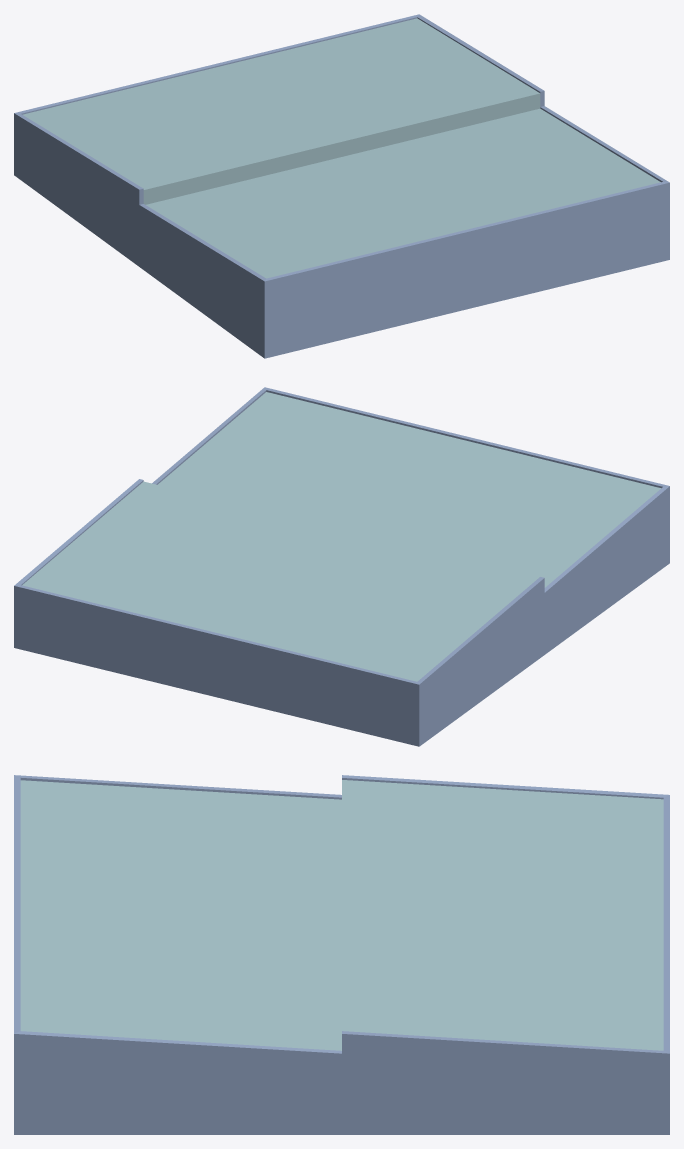
File: hangar_bis.fbx
The picture shows the model from 3 angles, top to bottom: view 1: azimuth 30°, elevation 25°; view 2: azimuth 150°, elevation 25°; view 3: azimuth 270°, elevation 25°; orthographic projection. The views are drawn at different scales.
Visible parts, largest first — view 1: hangar_bis_level-1_floor, hangar_bis_level-2_walls; view 2: hangar_bis_level-1_floor, hangar_bis_level-2_walls; view 3: hangar_bis_level-1_floor, hangar_bis_level-2_walls.
Boxes of the visible parts, x1,y1,x2,y2 form: hangar_bis_level-1_floor: [23, 18, 660, 278]; hangar_bis_level-2_walls: [14, 14, 669, 358]; hangar_bis_level-1_floor: [22, 392, 660, 681]; hangar_bis_level-2_walls: [14, 387, 669, 746]; hangar_bis_level-1_floor: [20, 780, 663, 1050]; hangar_bis_level-2_walls: [14, 775, 669, 1134].
Bounding box in the file's own units: 2800 × 510 × 3000.
